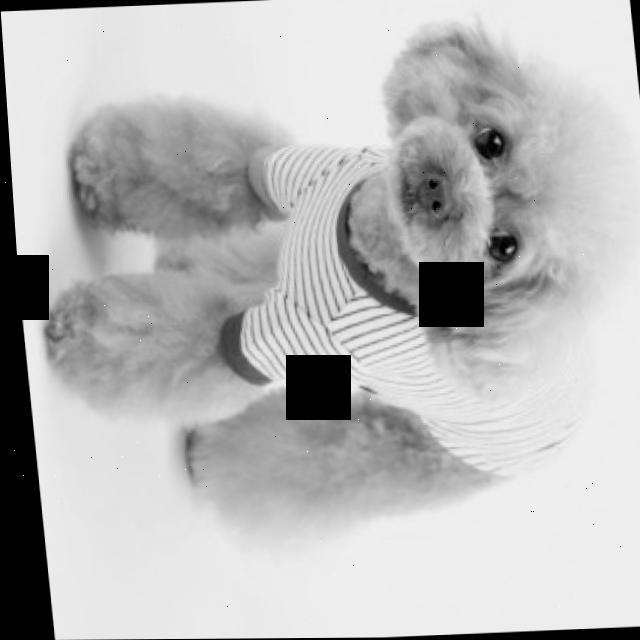cloth: (215, 145, 567, 476)
